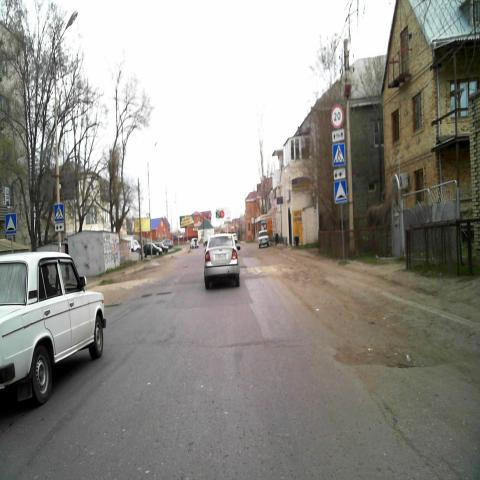8_15: (334, 168, 346, 180)
